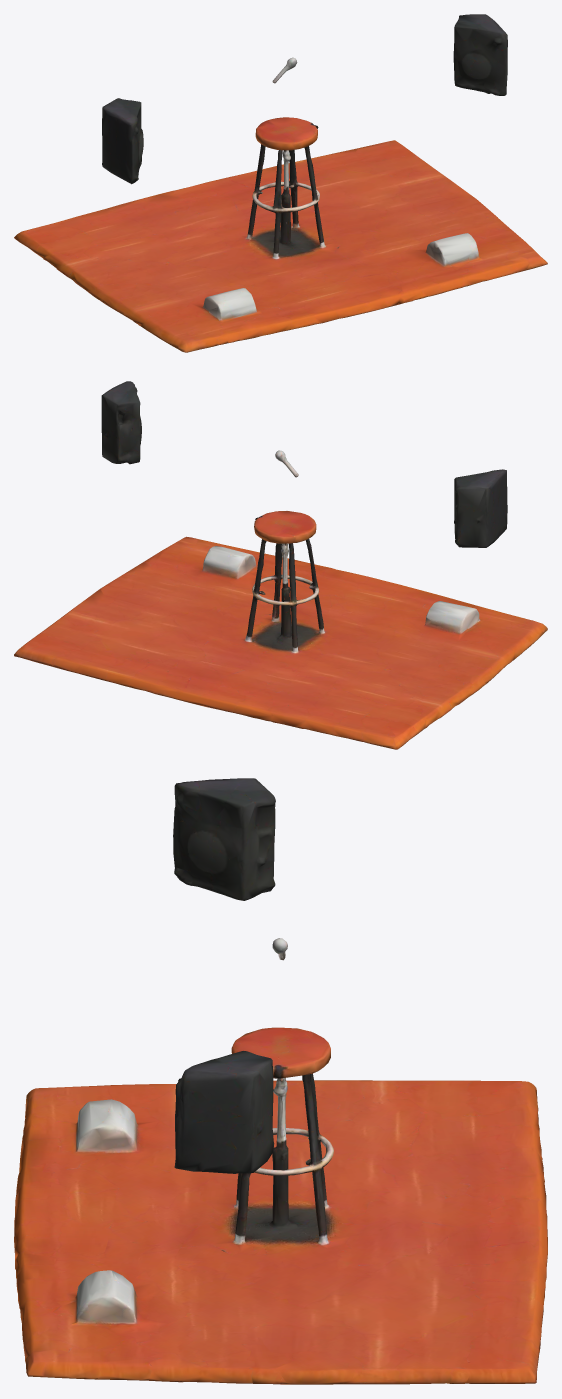
The model's file is lounge-stage-platform.glb.
3 renders of one model, top to bottom at view 1: azimuth 30°, elevation 25°; view 2: azimuth 150°, elevation 25°; view 3: azimuth 270°, elevation 25°, orthographic. The views are drawn at different scales.
Bounding box in the file's own units: 2 × 0.9778 × 1.52.
1 material, 1 textured.
